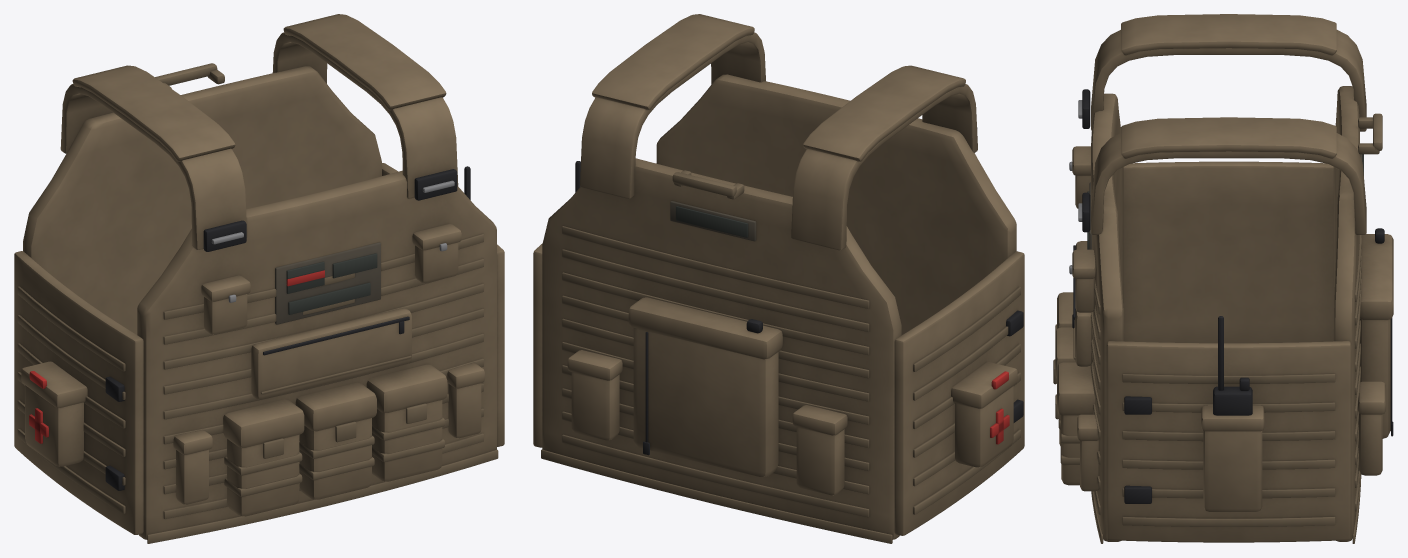
File: ArmorVest.glb
The picture shows the model from 3 angles, left to right: view 1: azimuth 30°, elevation 25°; view 2: azimuth 150°, elevation 25°; view 3: azimuth 270°, elevation 25°; orthographic projection.
Parts seen in each view (by area): view 1: Vest; view 2: Vest; view 3: Vest.
Boxes of the visible parts, x1,y1,x2,y2 form: Vest: [14, 14, 504, 543]; Vest: [533, 14, 1024, 543]; Vest: [1053, 14, 1393, 543].
Size of the model in its own units: 2.61 by 2.12 by 1.73.
Materials: 1 (1 with a texture image).
